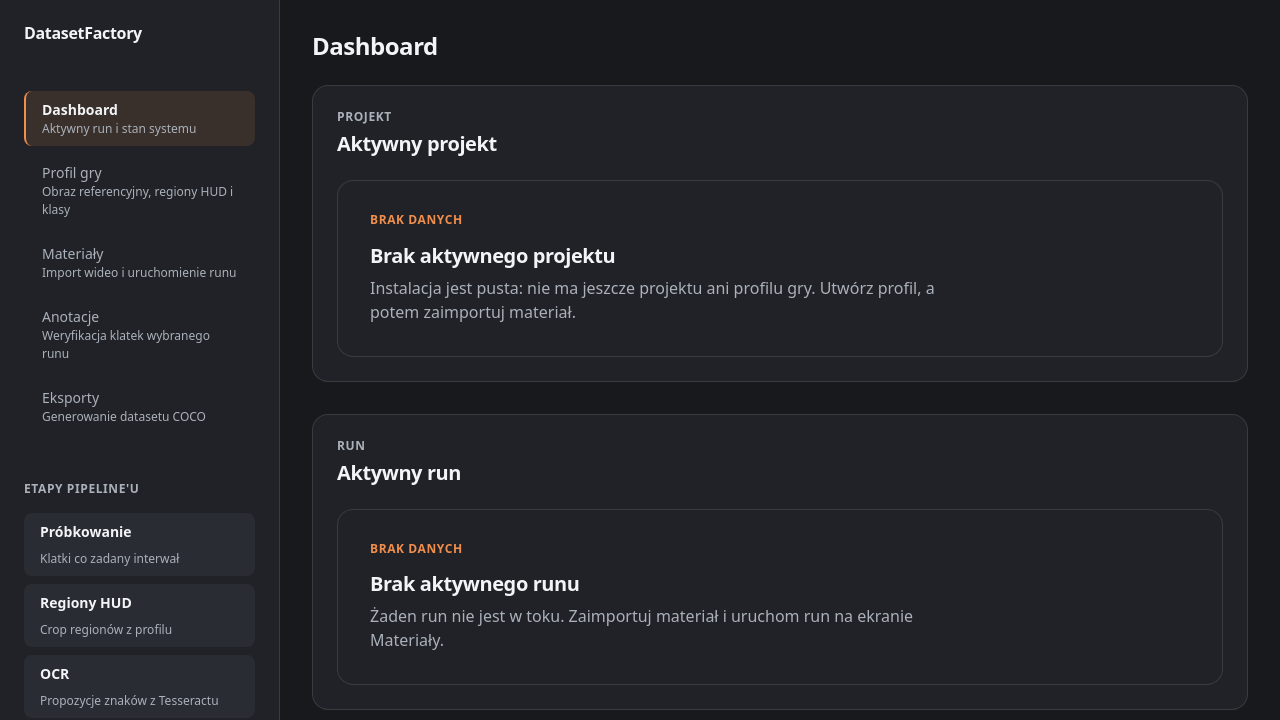
Test: navigation shell › navigates between routes by activating a destination
What coordinates should you click on to do the following:
click the link "Eksporty Generowanie datasetu COCO"
I would click on:
 (124, 407)
Its box is [42,388,206,425].
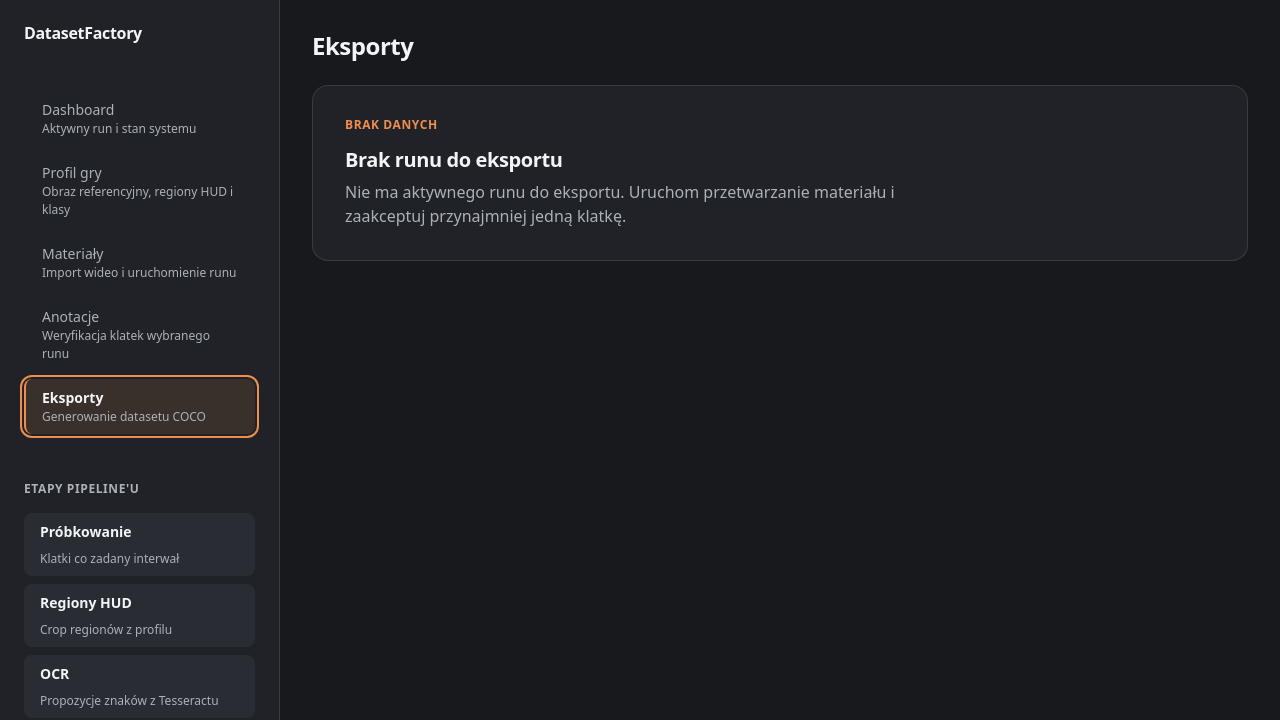
expect the heading "Eksporty" is shown: met, box [312,29,413,62]
